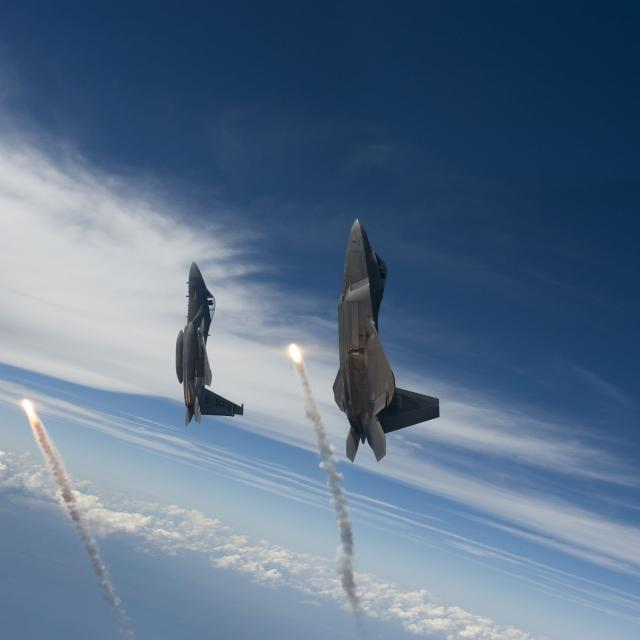MIL_Plane: (331, 218, 441, 462), (175, 260, 244, 427)
